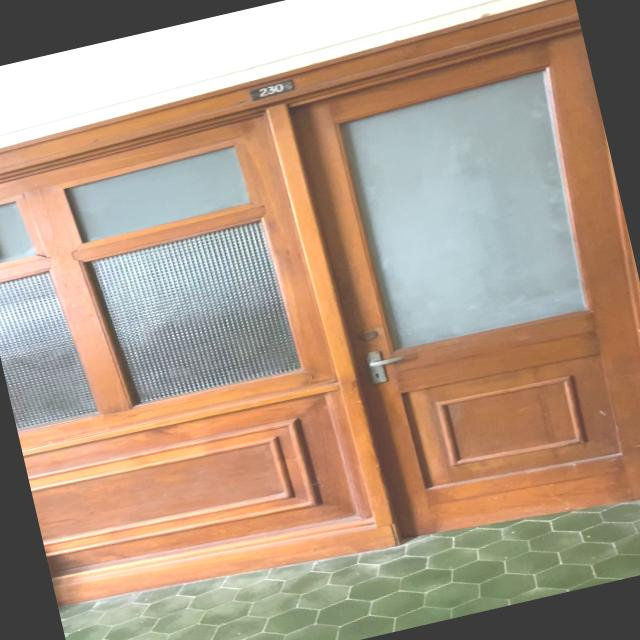room230: (248, 76, 296, 103)
